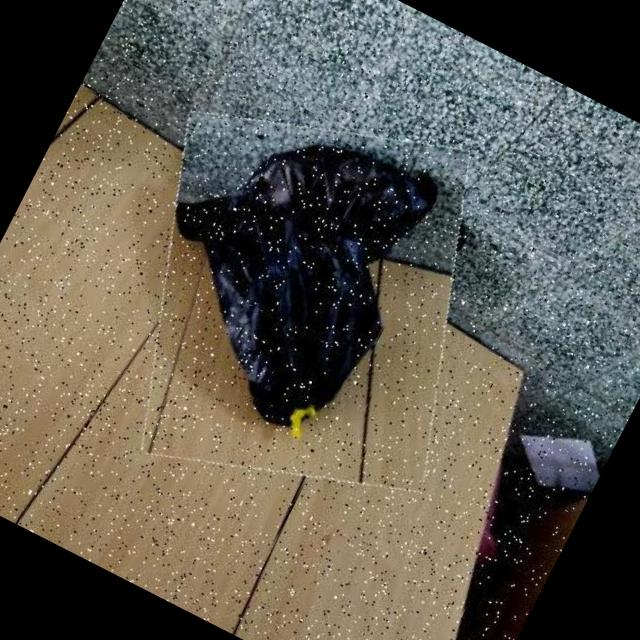KantongPlastik: (104, 80, 456, 454)
